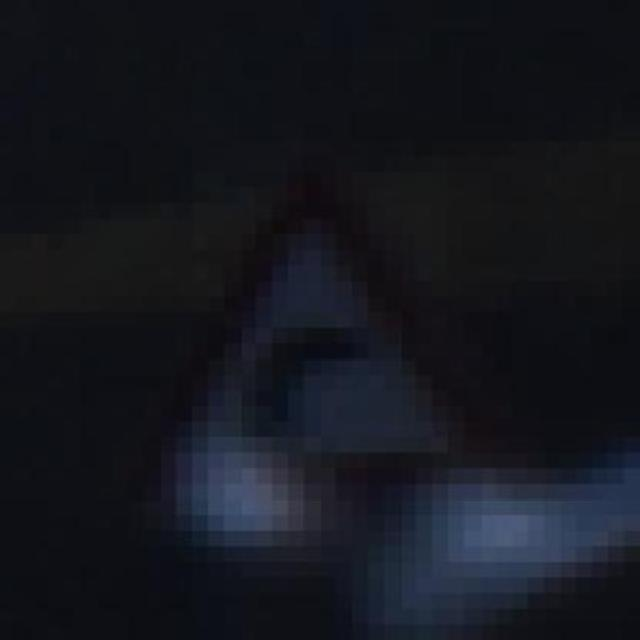Dangerous Rright Curve Ahead: (129, 140, 496, 515)
